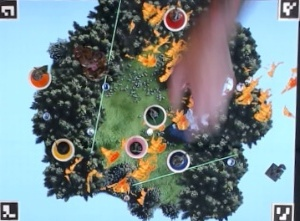blue: (163, 149, 193, 175)
green: (140, 102, 168, 128)
orange: (26, 64, 54, 90)
pink: (123, 134, 151, 161)
red: (160, 5, 191, 33)
yellow: (49, 135, 77, 162)
